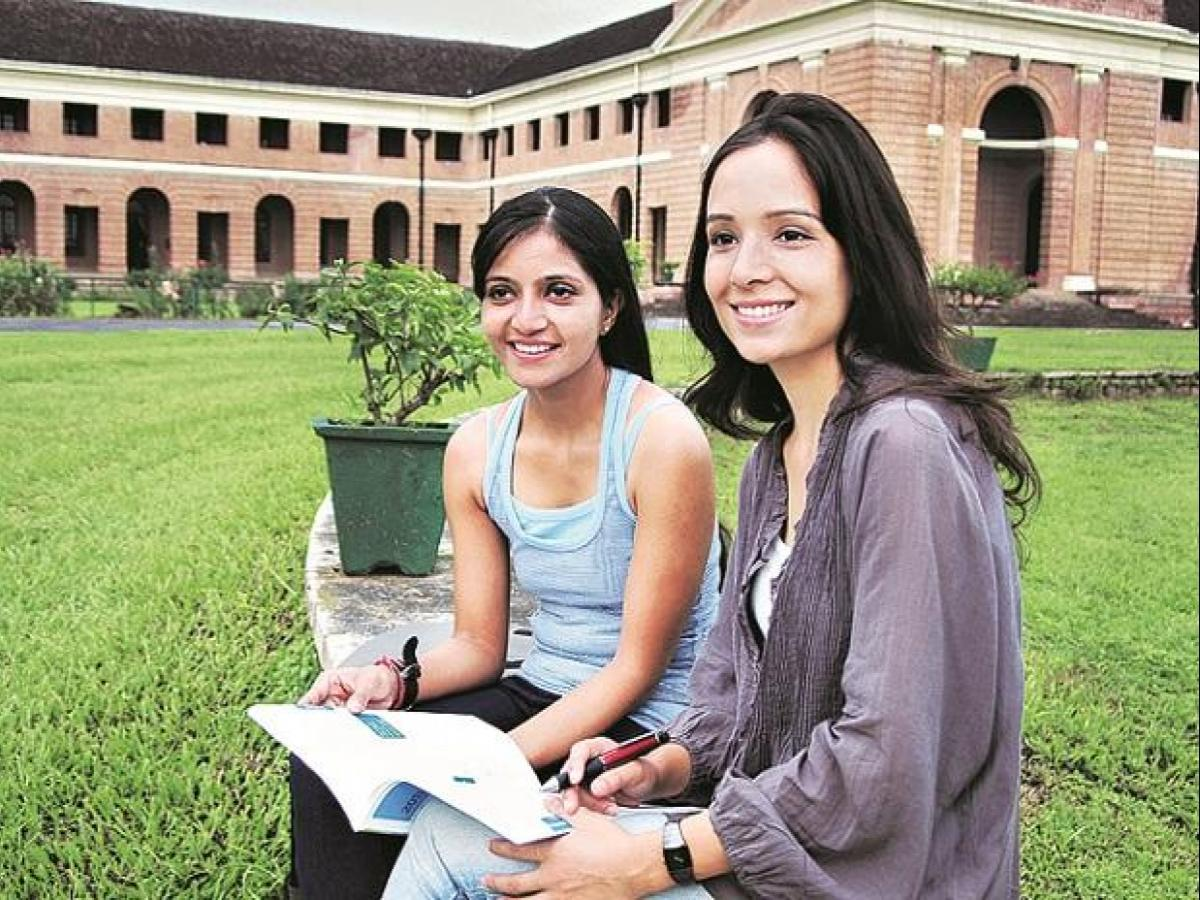Person: (292, 189, 712, 900), (684, 89, 1045, 900)
